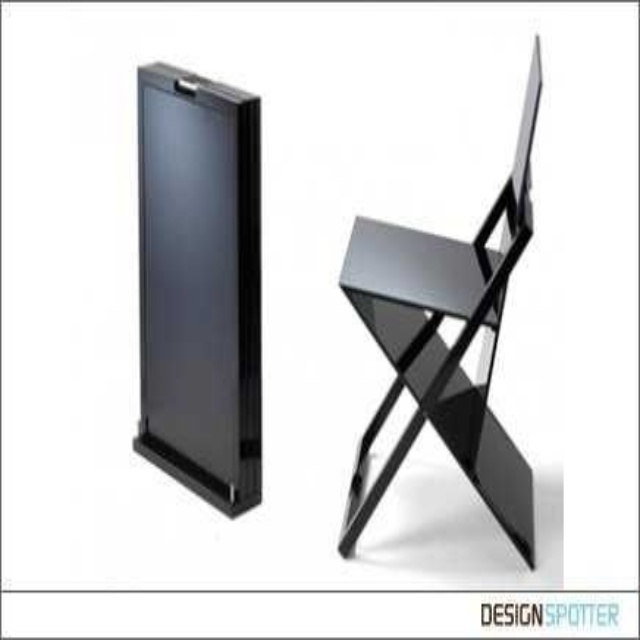obstacle: (338, 36, 540, 566), (134, 63, 260, 514)
